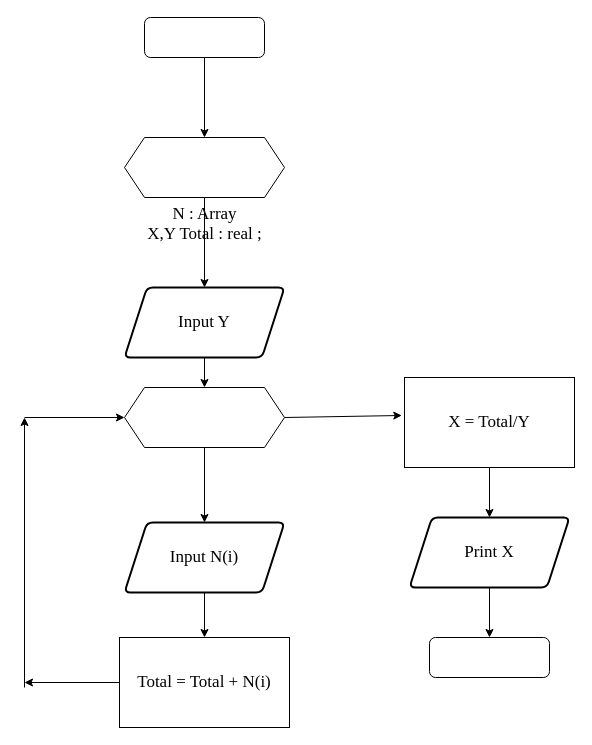
Image size: 592x745. Some labels were removed from this diagram. The centre of each missing label's shape, as x and y in pixels:
For i = 1 to Y do: the point at 204,417
Mulai: the point at 204,37
Selesai: the point at 489,657
